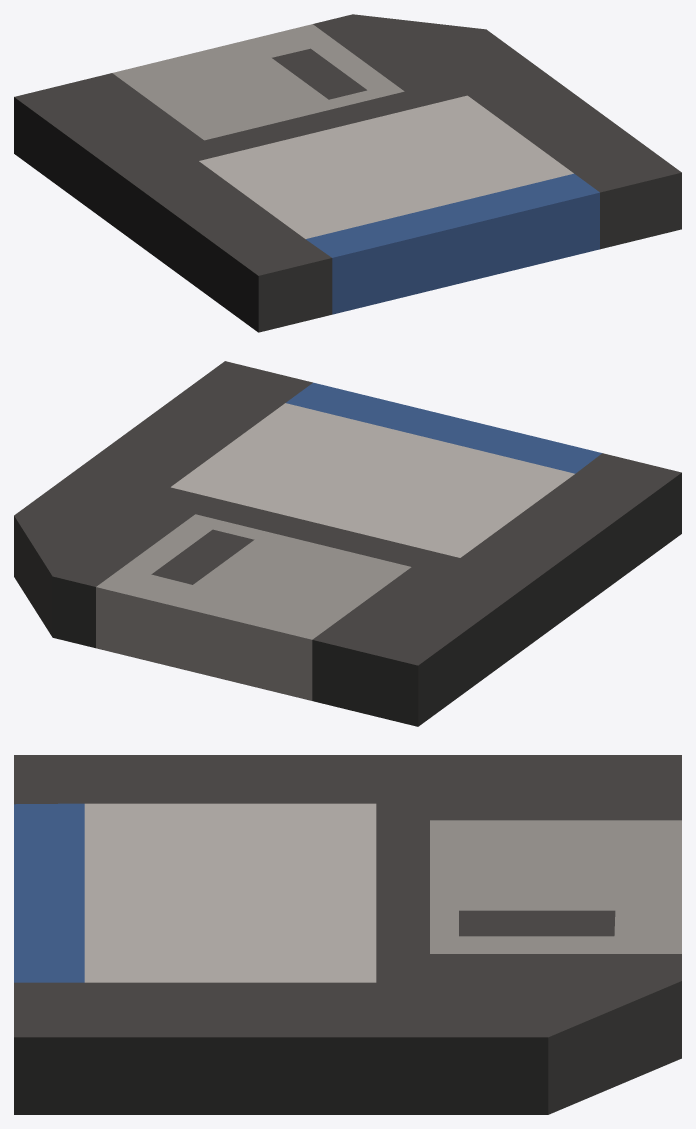
The model's file is SO_Floppydisk_01.fbx.
3 renders of one model, top to bottom at view 1: azimuth 30°, elevation 25°; view 2: azimuth 150°, elevation 25°; view 3: azimuth 270°, elevation 25°, orthographic. The views are drawn at different scales.
Visible parts, largest first — view 1: SO_Floppydisk_01; view 2: SO_Floppydisk_01; view 3: SO_Floppydisk_01.
Part boxes in pixels (x1=…): SO_Floppydisk_01: x1=14, y1=14, x2=681, y2=332; SO_Floppydisk_01: x1=14, y1=361, x2=681, y2=726; SO_Floppydisk_01: x1=14, y1=755, x2=681, y2=1114.
Size of the model in its own units: 0.314 by 0.0402 by 0.314.
